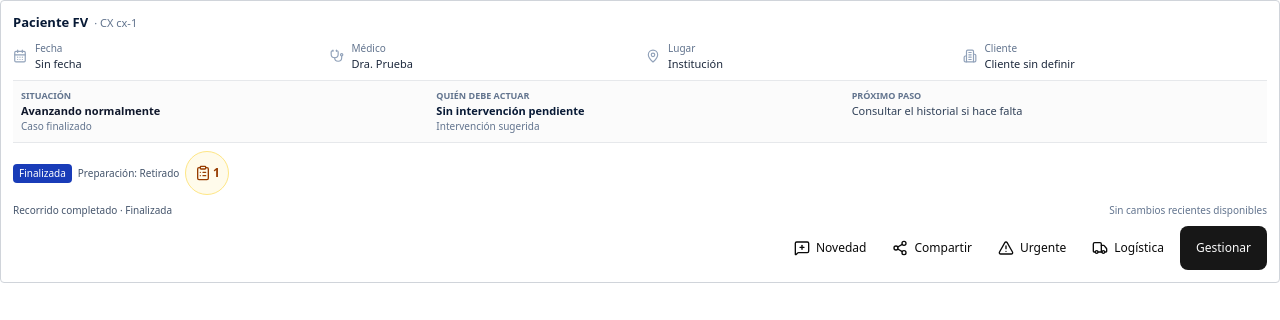
Test: CoordinatorInboxView compact case card › renders only the Documentación pending-close fixture contract
The width and height of the screenshot is (1280, 320).
Click the button named "Cierre pendiente: 1 requisito faltante": (207, 173) [185,151,229,195]
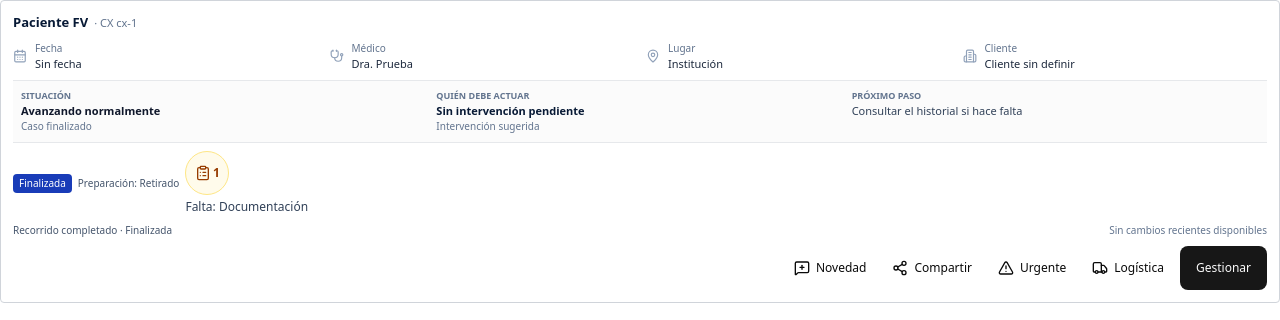
Check: the text "Falta: Documentación" is shown, box [185,199,308,215]
